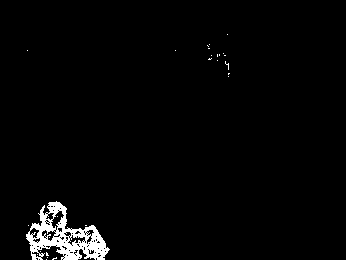person: (27, 199, 72, 260)
